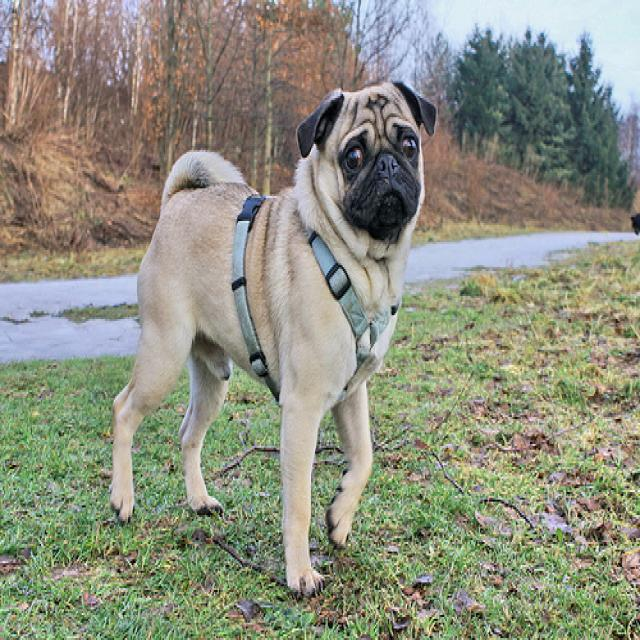dog-pug: (97, 69, 444, 605)
